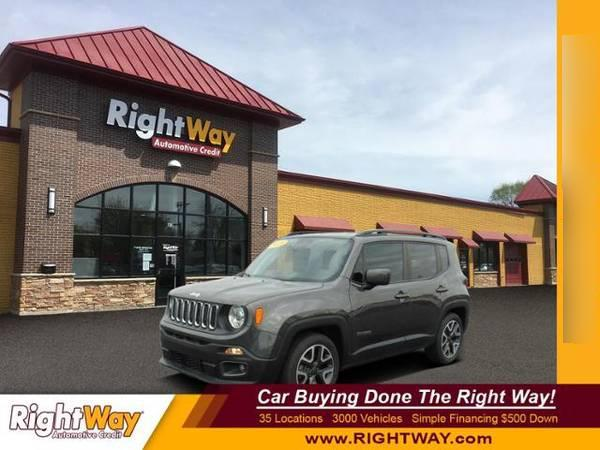Front_Bumper: (155, 321, 286, 393)
Front_Fender: (244, 275, 354, 366)
Front_Left_Door: (349, 282, 401, 362)
Front_Left_Window: (351, 242, 409, 286)
Front_Windshield: (241, 240, 354, 286)
Grille: (165, 294, 223, 331)
Hood: (167, 273, 320, 305)
Left_Headlight: (219, 303, 253, 332)
Rear_Fender: (442, 268, 469, 306)
Rear_Left_Door: (399, 274, 445, 349)
Rear_Left_Window: (407, 243, 449, 284)
Roof: (284, 233, 459, 285)
Wheel: (285, 334, 341, 403), (434, 312, 462, 358)
